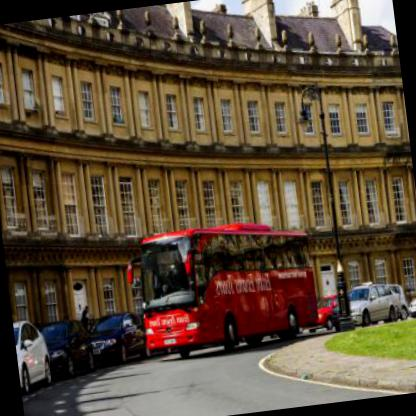bus: (121, 211, 322, 362)
